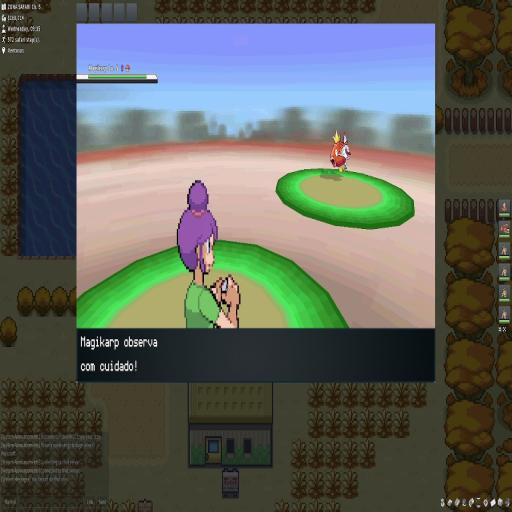MAGIKARP: (329, 130, 351, 175)
